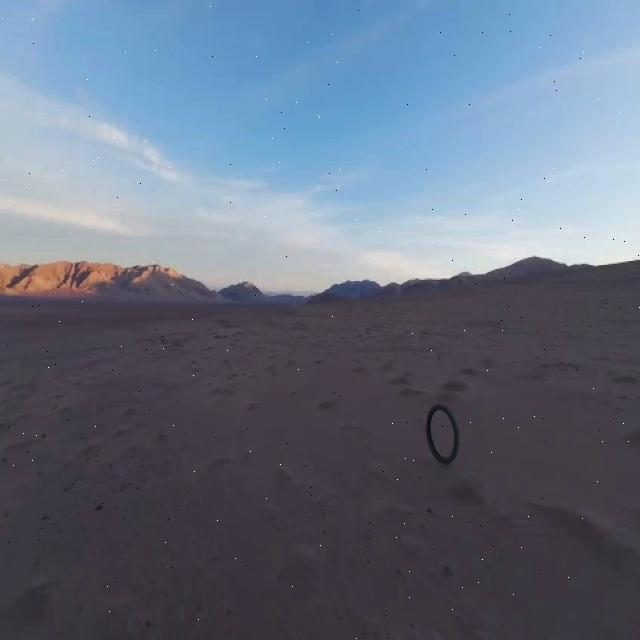Tire: (426, 403, 459, 465)
